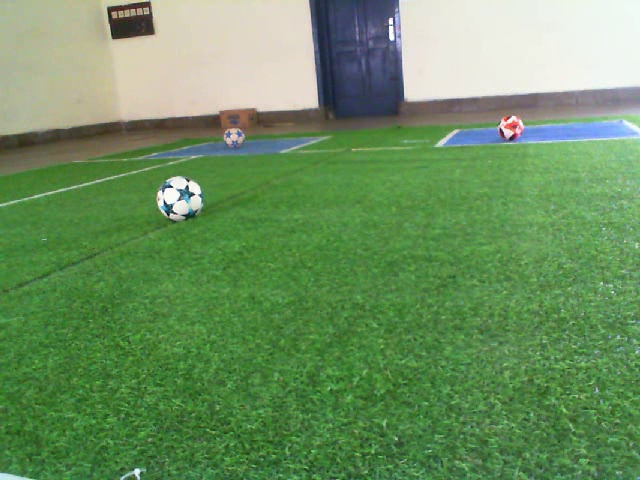ball: (153, 172, 208, 224), (496, 112, 526, 144), (221, 126, 247, 151)
